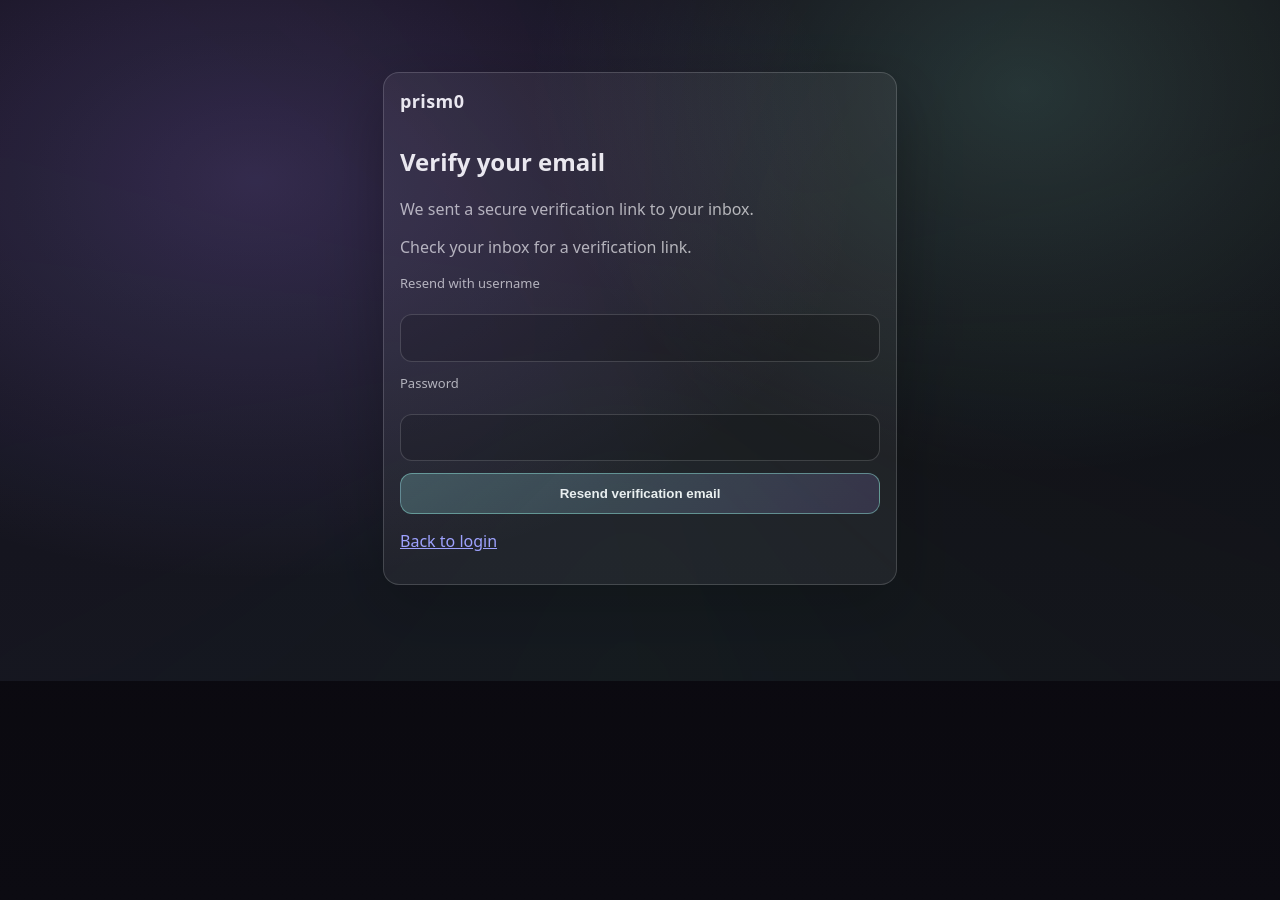
it: VerifyEmailPage › shows resend errors
The image size is (1280, 900).
Step 1. Type "user" into the field labelled "Resend with username" → (640, 338), box [400,314,880,362]
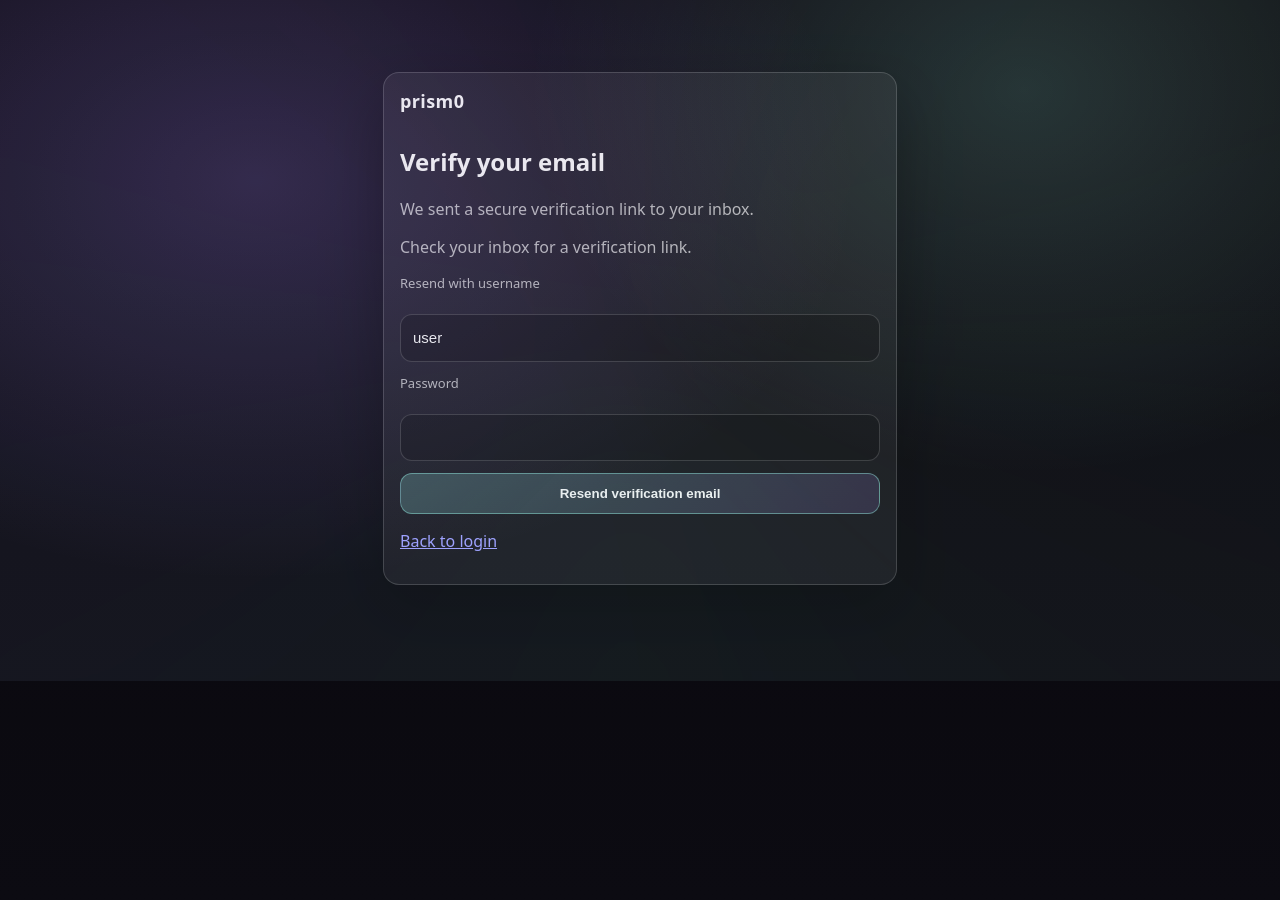
Step 2. Type "secret123" into the password field labelled "Password" → (640, 438), box [400,414,880,461]
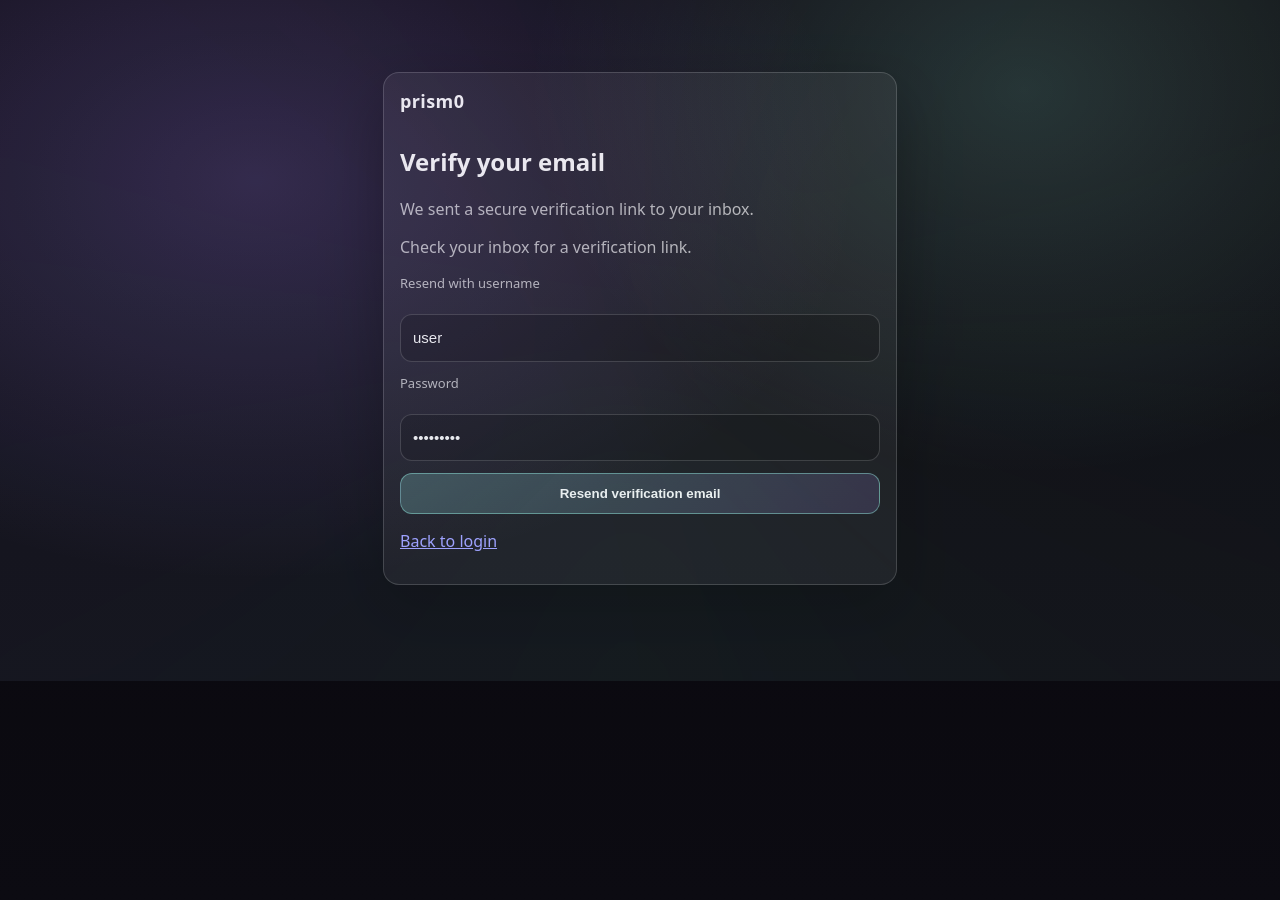
Step 3. Click the button "Resend verification email" → click(640, 494), box [400,473,880,514]
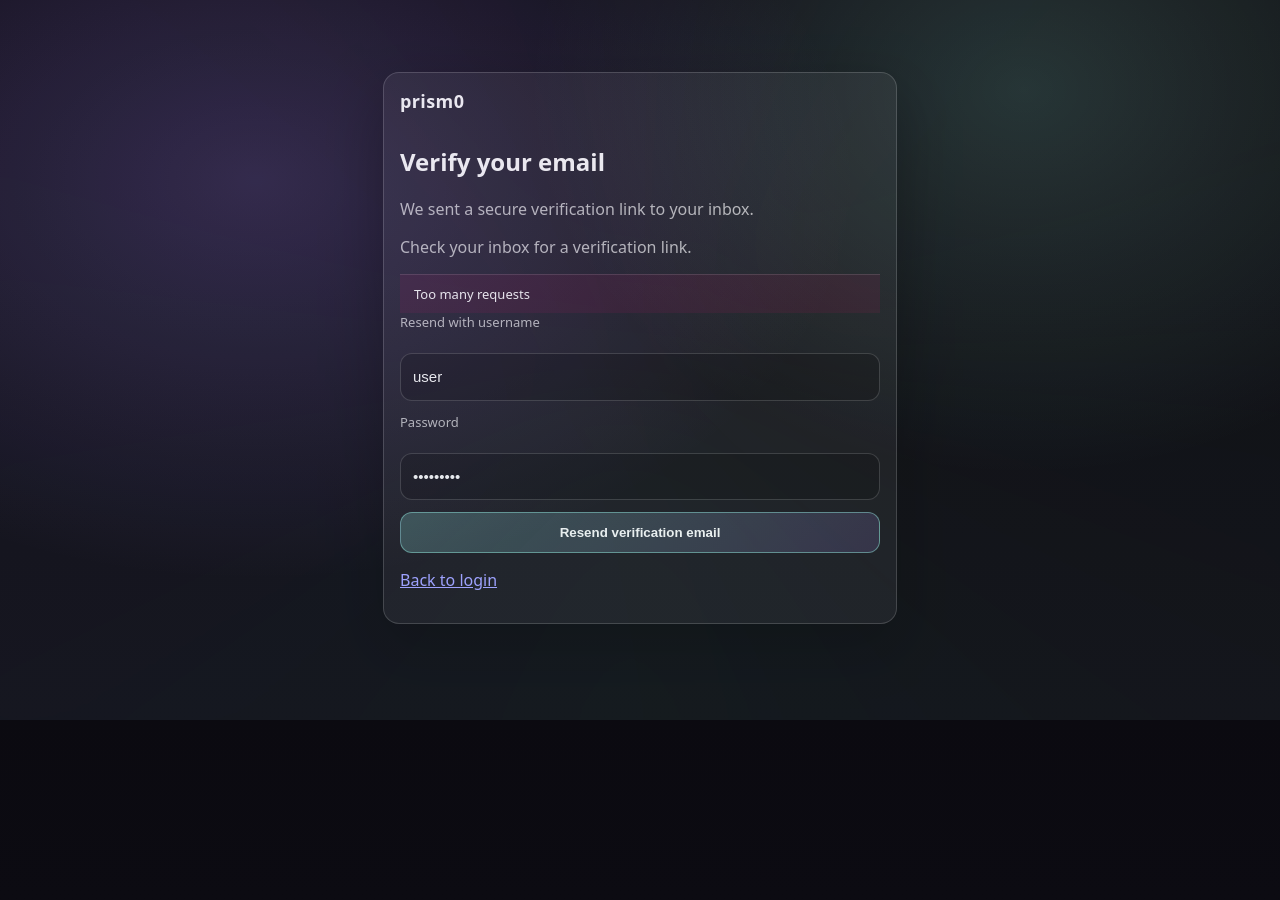
Now the text "Too many requests" is shown, box [400,274,880,313]
